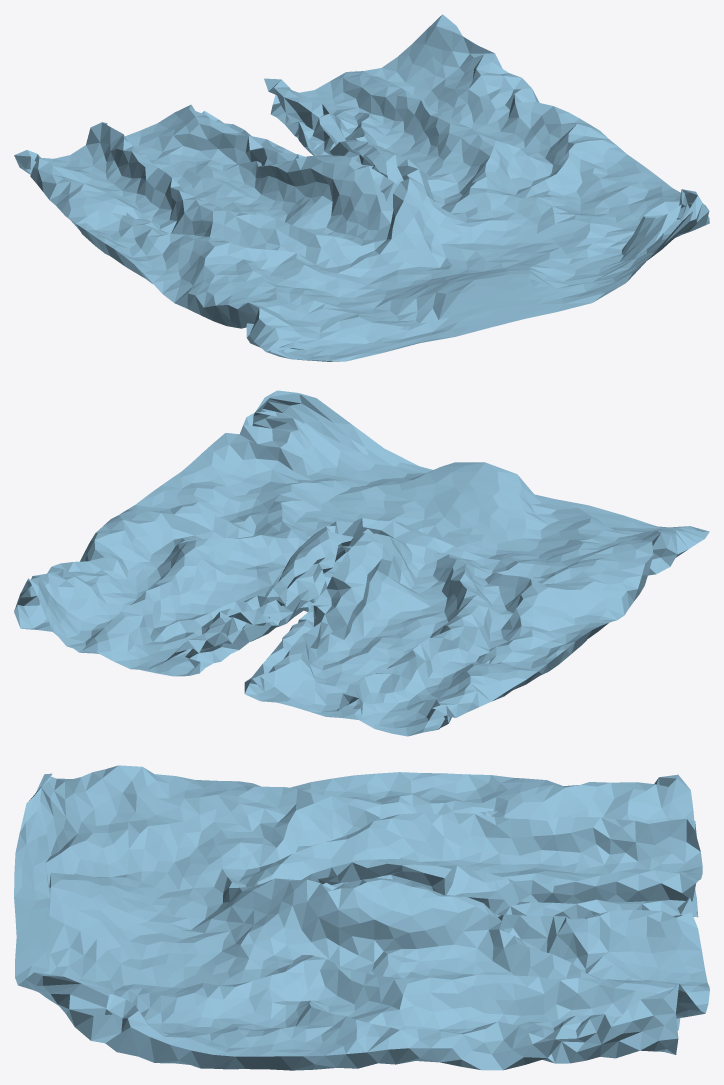
The model's file is frame_02.glb.
3 renders of one model, top to bottom at view 1: azimuth 30°, elevation 25°; view 2: azimuth 150°, elevation 25°; view 3: azimuth 270°, elevation 25°, orthographic. The views are drawn at different scales.
Visible parts, largest first — view 1: frame_02.obj; view 2: frame_02.obj; view 3: frame_02.obj.
Boxes of the visible parts, x1,y1,x2,y2 form: frame_02.obj: (14, 14, 709, 361); frame_02.obj: (14, 390, 709, 736); frame_02.obj: (14, 765, 709, 1070).
Size of the model in its own units: 1.45 by 0.205 by 1.5.
